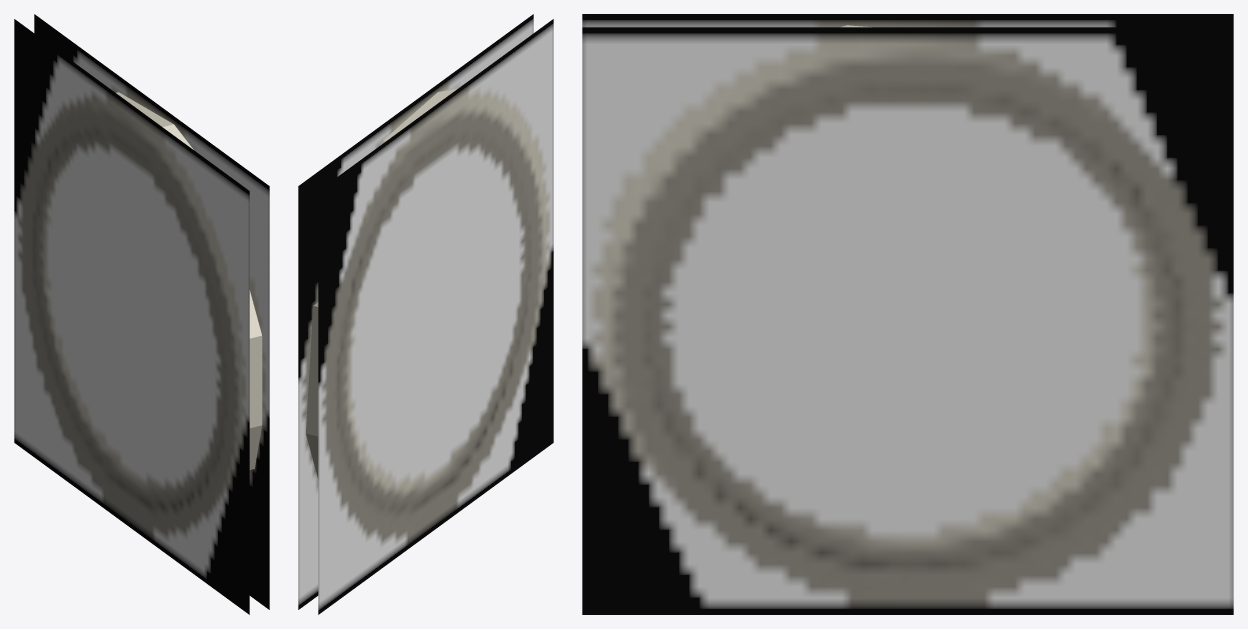
File: pz_native_fixtures_windows_church_126_frame.obj
3 views of the same model, side by side, from view 1: azimuth 30°, elevation 25°; view 2: azimuth 150°, elevation 25°; view 3: azimuth 270°, elevation 25° (orthographic). The views are drawn at different scales.
Parts seen in each view (by area): view 1: pz_native_fixtures_windows_church_126_frame; view 2: pz_native_fixtures_windows_church_126_frame; view 3: pz_native_fixtures_windows_church_126_frame.
Boxes of the visible parts, x1,y1,x2,y2 form: pz_native_fixtures_windows_church_126_frame: (14, 14, 269, 614); pz_native_fixtures_windows_church_126_frame: (298, 14, 553, 614); pz_native_fixtures_windows_church_126_frame: (582, 14, 1233, 614).
Size of the model in its own units: 0.04 by 0.8125 by 0.8165.
Materials: 1 (1 with a texture image).
